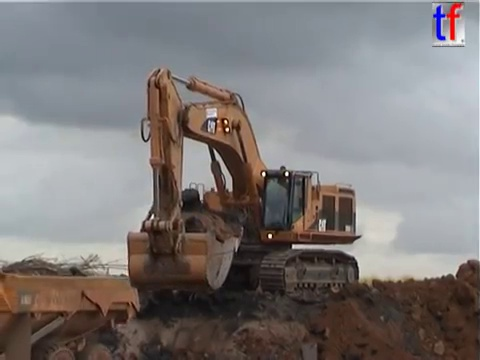excavator: (123, 64, 364, 305)
truck: (1, 266, 142, 358)
